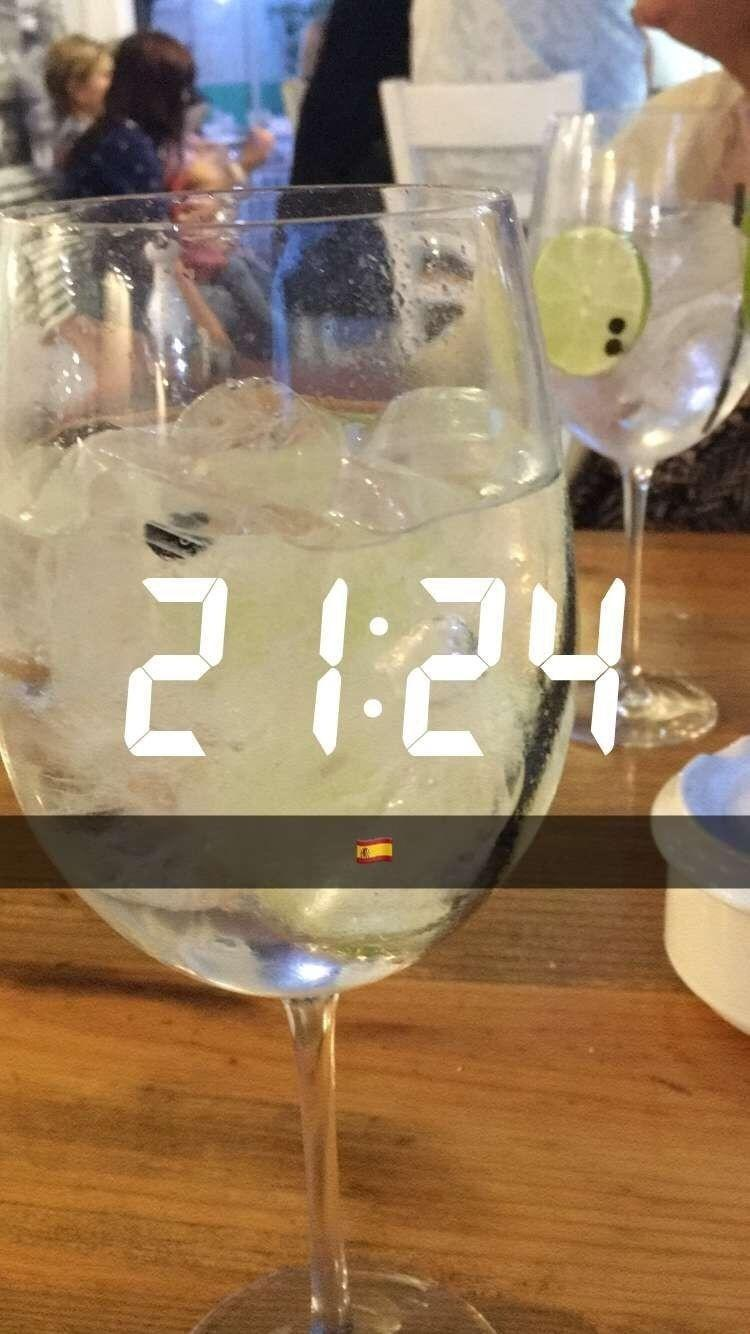glass-wine: (1, 160, 589, 1334), (527, 80, 747, 748)
